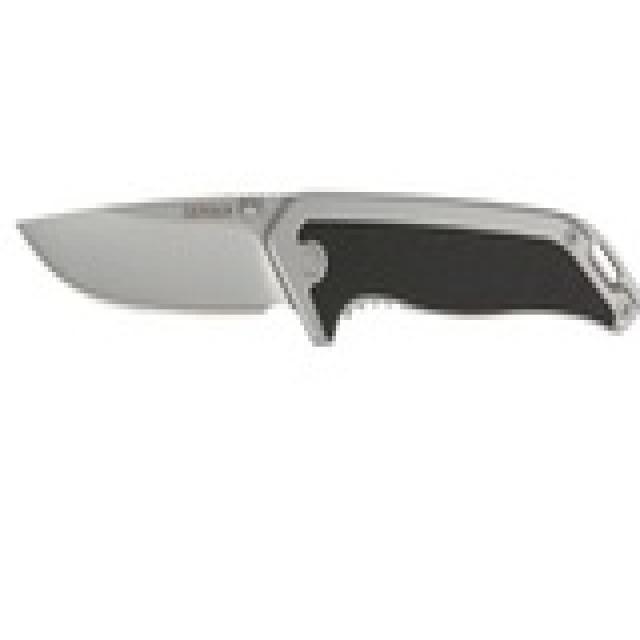Knife: (11, 188, 640, 365)
